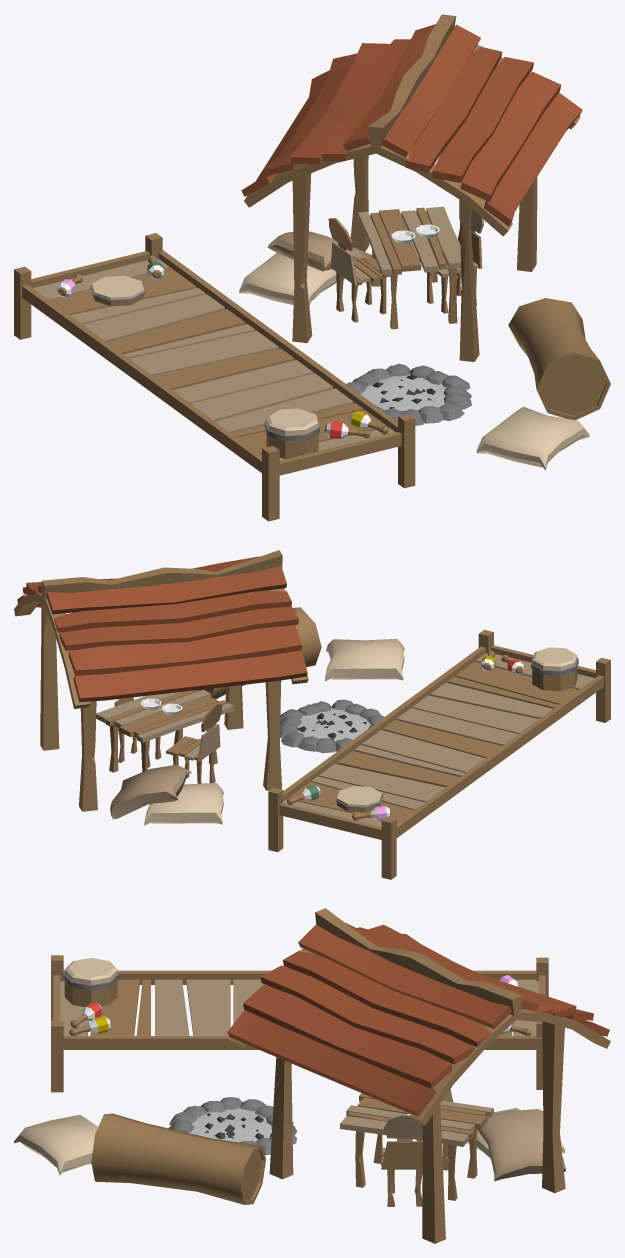
Rendered from EntertainerCamp.fbx.
3 views of the same model, one above another, from view 1: azimuth 30°, elevation 25°; view 2: azimuth 150°, elevation 25°; view 3: azimuth 270°, elevation 25° (orthographic). The views are drawn at different scales.
Parts seen in each view (by area): view 1: Entertainers Camp; view 2: Entertainers Camp; view 3: Entertainers Camp.
Boxes of the visible parts, left/top/right/bottom form: Entertainers Camp: left=14, top=14, right=610, bottom=521; Entertainers Camp: left=14, top=550, right=610, bottom=879; Entertainers Camp: left=14, top=908, right=610, bottom=1243.
Size of the model in its own units: 327 by 149 by 345.
